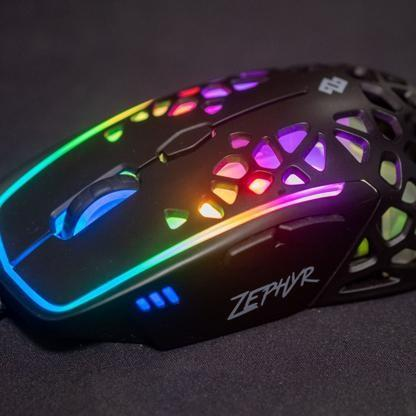not trash: (0, 62, 416, 355)
